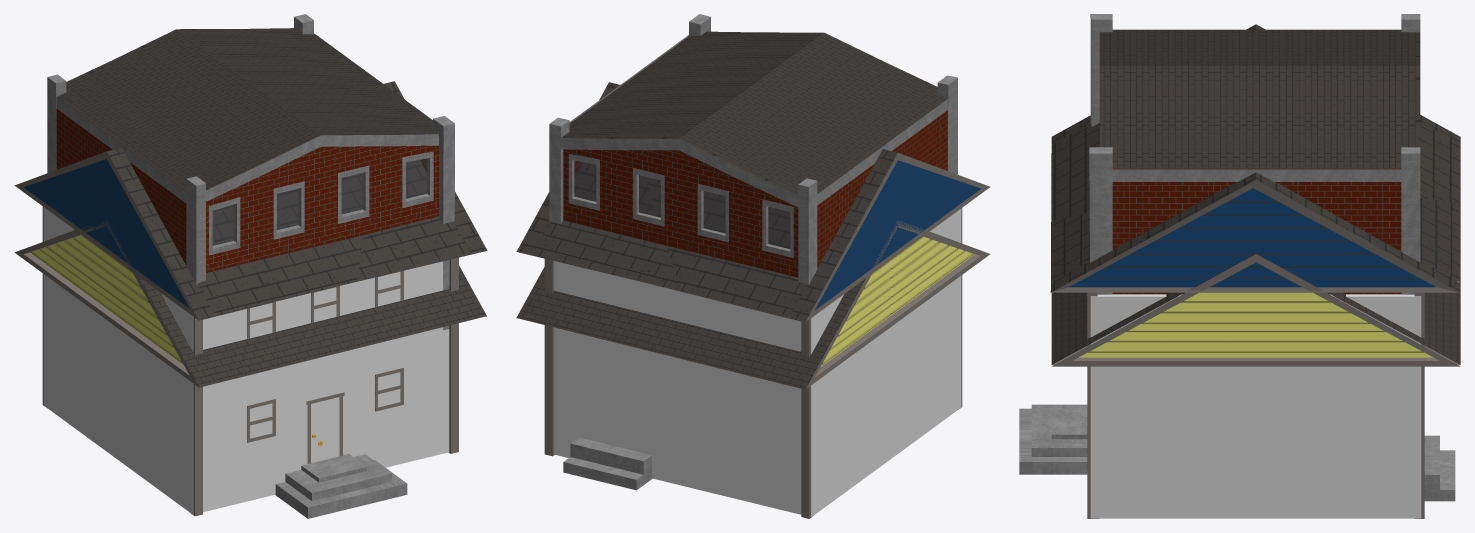
The model's file is wall_tiles.glb.
The picture shows the model from 3 angles, left to right: view 1: azimuth 30°, elevation 25°; view 2: azimuth 150°, elevation 25°; view 3: azimuth 270°, elevation 25°; orthographic projection. The views are drawn at different scales.
Visible parts, largest first — view 1: apartment, house_half_green_01 -colonly., house_small, house_half_01, house_half_02; view 2: apartment, house_half_green_01 -colonly., house_half_01, house_small, house_half_02; view 3: apartment, house_half_green_01 -colonly., house_half_02, house_small, house_half_01.
Boxes of the visible parts, bbox=[...] form: apartment: bbox=[47, 14, 454, 330]; house_half_green_01 -colonly.: bbox=[43, 207, 449, 514]; house_small: bbox=[14, 220, 486, 515]; house_half_01: bbox=[14, 147, 470, 516]; house_half_02: bbox=[197, 81, 487, 518]; apartment: bbox=[549, 14, 957, 490]; house_half_green_01 -colonly.: bbox=[554, 208, 961, 517]; house_half_01: bbox=[532, 149, 990, 518]; house_small: bbox=[516, 220, 990, 455]; house_half_02: bbox=[516, 82, 806, 456]; apartment: bbox=[1089, 14, 1455, 501]; house_half_green_01 -colonly.: bbox=[1090, 294, 1421, 518]; house_half_02: bbox=[1019, 122, 1460, 518]; house_small: bbox=[1051, 253, 1460, 518]; house_half_01: bbox=[1051, 24, 1460, 282].
Size of what is drawn, in the model's own units: 9.01 by 10.31 by 10.79.
Materials: 16 (10 with a texture image).
